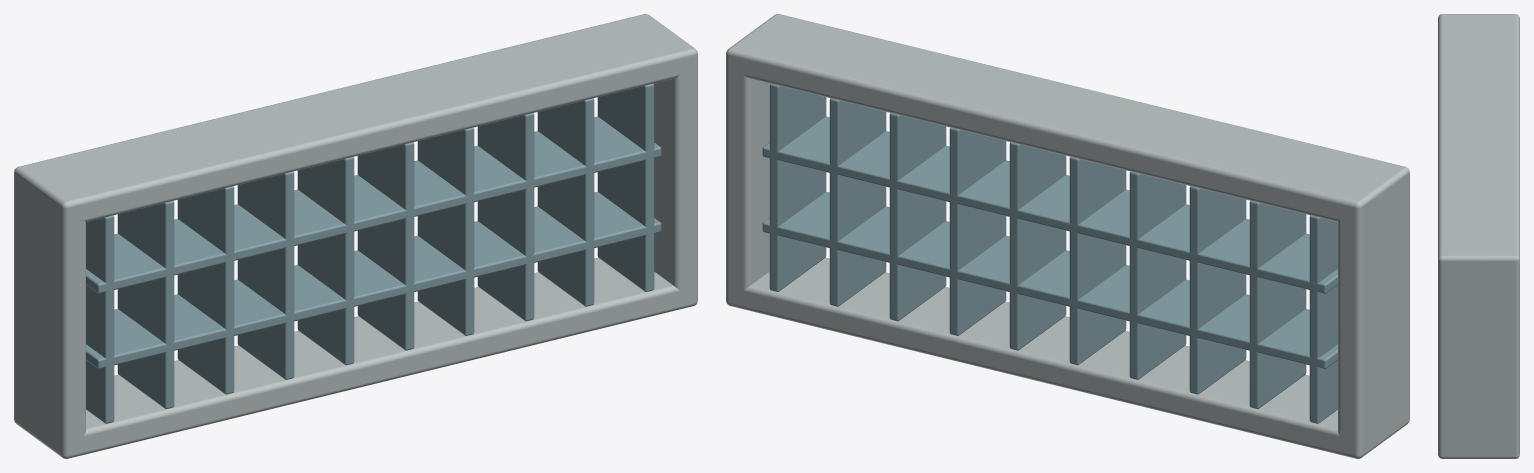
Rendered from abandoned-tidal-model-testing-hall-flow-straightener-c-199e2076__32343.glb.
3 renders of one model, left to right at view 1: azimuth 30°, elevation 25°; view 2: azimuth 150°, elevation 25°; view 3: azimuth 270°, elevation 25°, orthographic. The views are drawn at different scales.
Parts seen in each view (by area): view 1: flow-straightener-cassette; view 2: flow-straightener-cassette; view 3: flow-straightener-cassette.
Boxes of the visible parts, left/top/right/bottom form: flow-straightener-cassette: left=14, top=14, right=697, bottom=458; flow-straightener-cassette: left=726, top=14, right=1409, bottom=458; flow-straightener-cassette: left=1438, top=14, right=1519, bottom=458.
Size of the model in its own units: 1.06 by 0.41 by 0.15.
